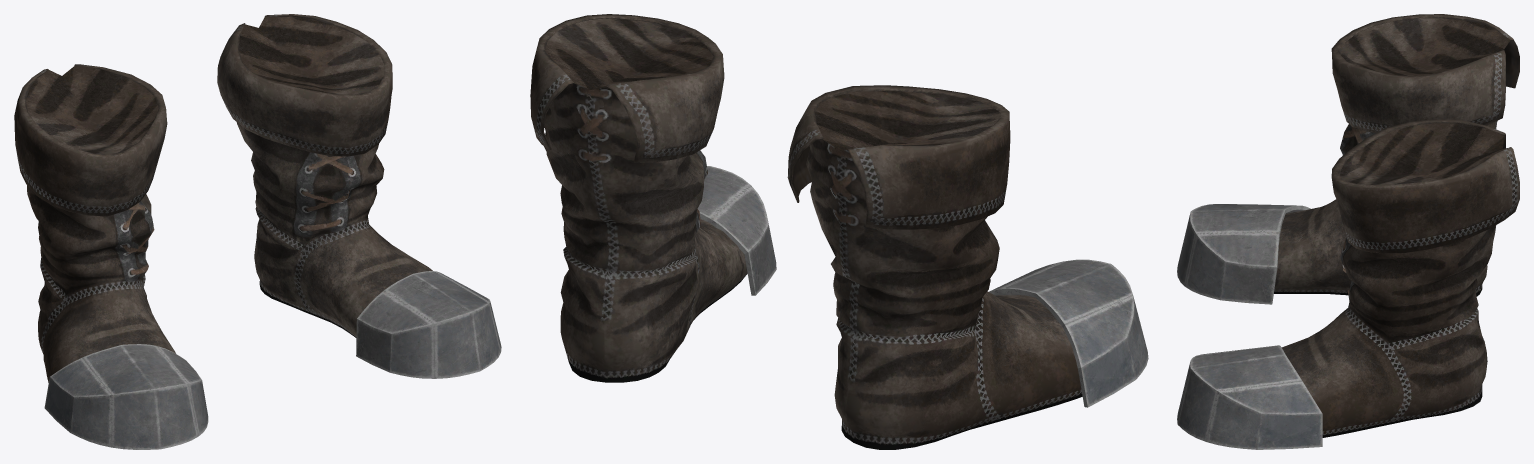
The model's file is sk_dwarf_erebor_boots_med_c.fbx.
3 renders of one model, left to right at view 1: azimuth 30°, elevation 25°; view 2: azimuth 150°, elevation 25°; view 3: azimuth 270°, elevation 25°, orthographic. The views are drawn at different scales.
Parts seen in each view (by area): view 1: sk_dwarf_erebor_boots_med_c; view 2: sk_dwarf_erebor_boots_med_c; view 3: sk_dwarf_erebor_boots_med_c.
Part boxes in pixels (x1,y1,x2,y2): sk_dwarf_erebor_boots_med_c: (14, 14, 501, 449); sk_dwarf_erebor_boots_med_c: (530, 14, 1148, 449); sk_dwarf_erebor_boots_med_c: (1177, 14, 1519, 449).
Size of the model in its own units: 0.5389 by 0.3733 by 0.3068.
1 material, 1 textured.
